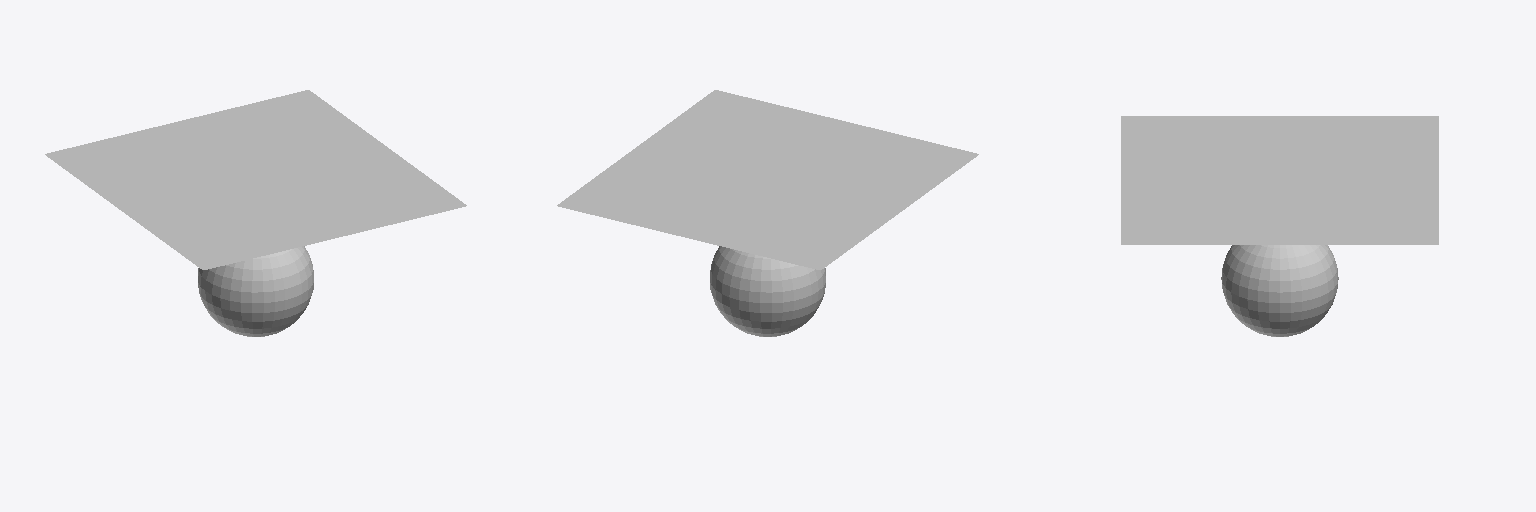
Rendered from BOLA.obj.
3 views of the same model, side by side, from view 1: azimuth 30°, elevation 25°; view 2: azimuth 150°, elevation 25°; view 3: azimuth 270°, elevation 25° (orthographic).
Visible parts, largest first — view 1: Plano, Esfera_UV; view 2: Plano, Esfera_UV; view 3: Plano, Esfera_UV.
Boxes of the visible parts, box(x1,y1,x2,y2) form: Plano: box(45, 90, 466, 269); Esfera_UV: box(198, 246, 313, 336); Plano: box(557, 90, 978, 269); Esfera_UV: box(710, 246, 825, 336); Plano: box(1121, 116, 1438, 244); Esfera_UV: box(1221, 245, 1338, 336).
Size of the model in its own units: 5.22 by 2.85 by 5.43.